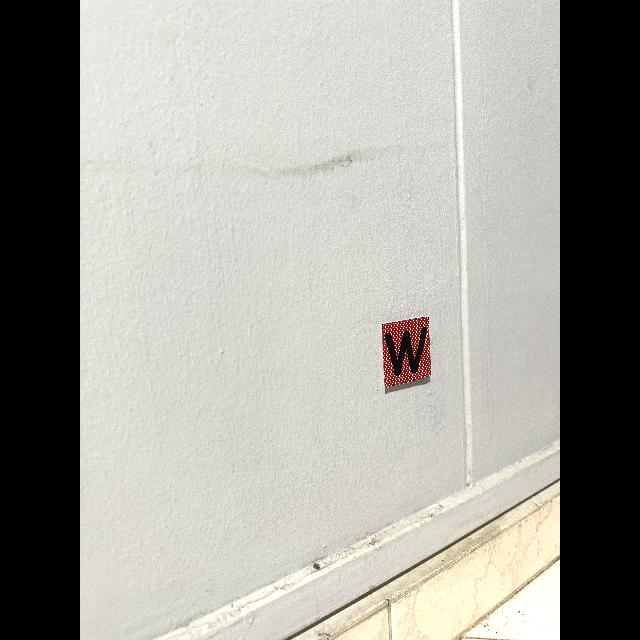W: (384, 326, 427, 375)
